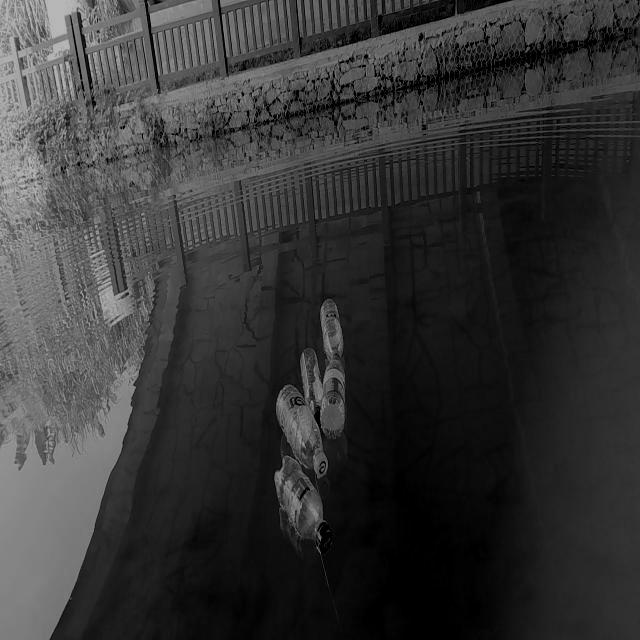bottle: (260, 452, 340, 557), (268, 380, 334, 479), (316, 351, 349, 441), (314, 296, 348, 360), (298, 349, 324, 411)
